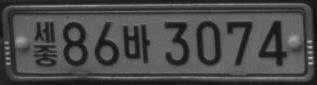0: (195, 19, 222, 66)
3: (163, 21, 190, 65)
4: (258, 20, 287, 65)
6: (93, 22, 119, 66)
7: (226, 20, 252, 65)
8: (62, 20, 88, 67)
바: (122, 24, 151, 64)
세종_V: (33, 21, 58, 66)
